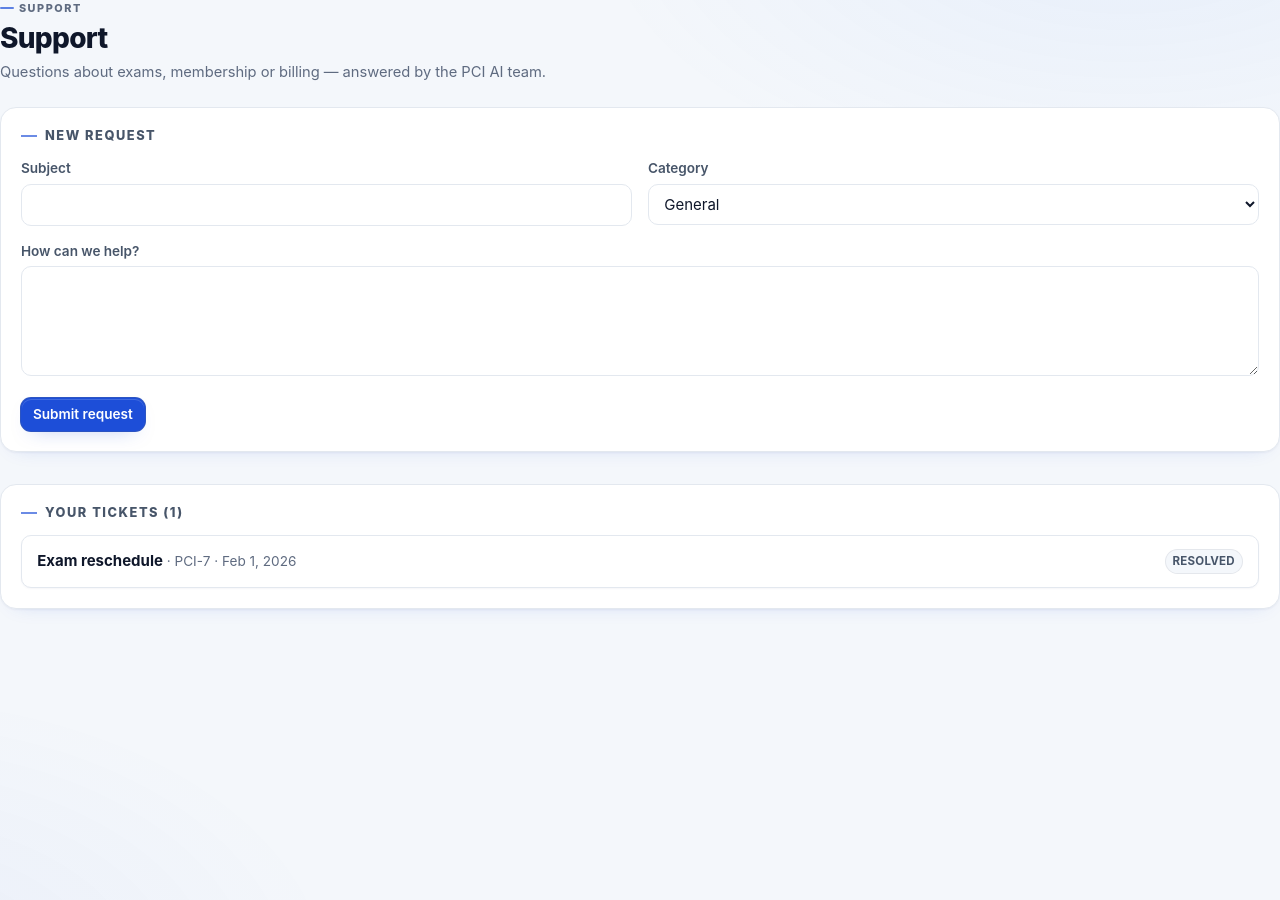
it: Support (ticket lifecycle) › offers the rating widget on a resolved unrated ticket and posts the chosen star
What coordinates should you click on to do the following:
click the button "Exam reschedule · PCI-7 · Feb 1, 2026 resolved"
I would click on:
 (100, 561)
Its box is [37,549,1243,574].
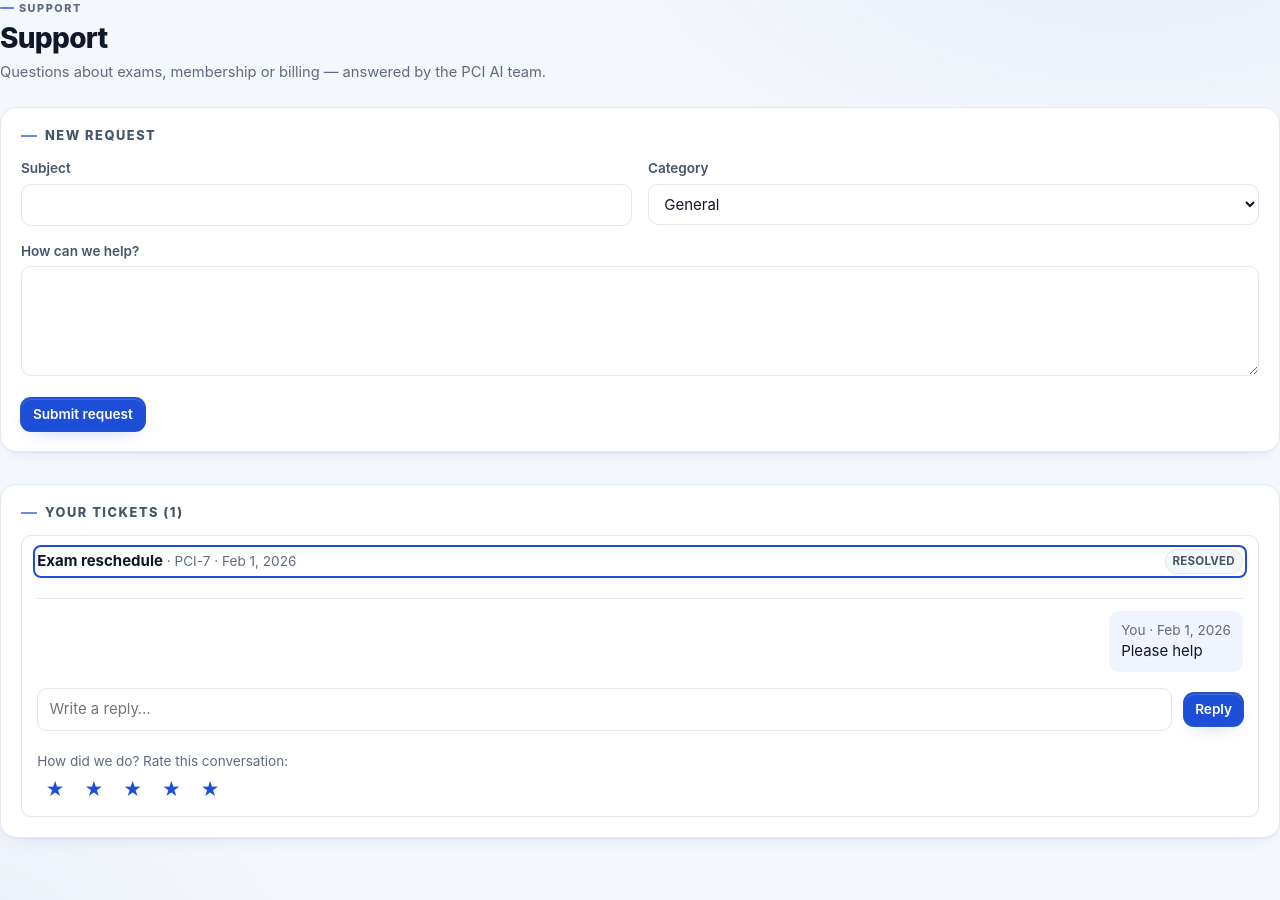
Result: the text "How did we do? Rate this conversation:" is shown at [37,753,288,769]
What coordinates should you click on to do the following:
click the button named "Rate 4 out of 5"
I would click on:
 (171, 790)
Its box is [154,775,189,804].
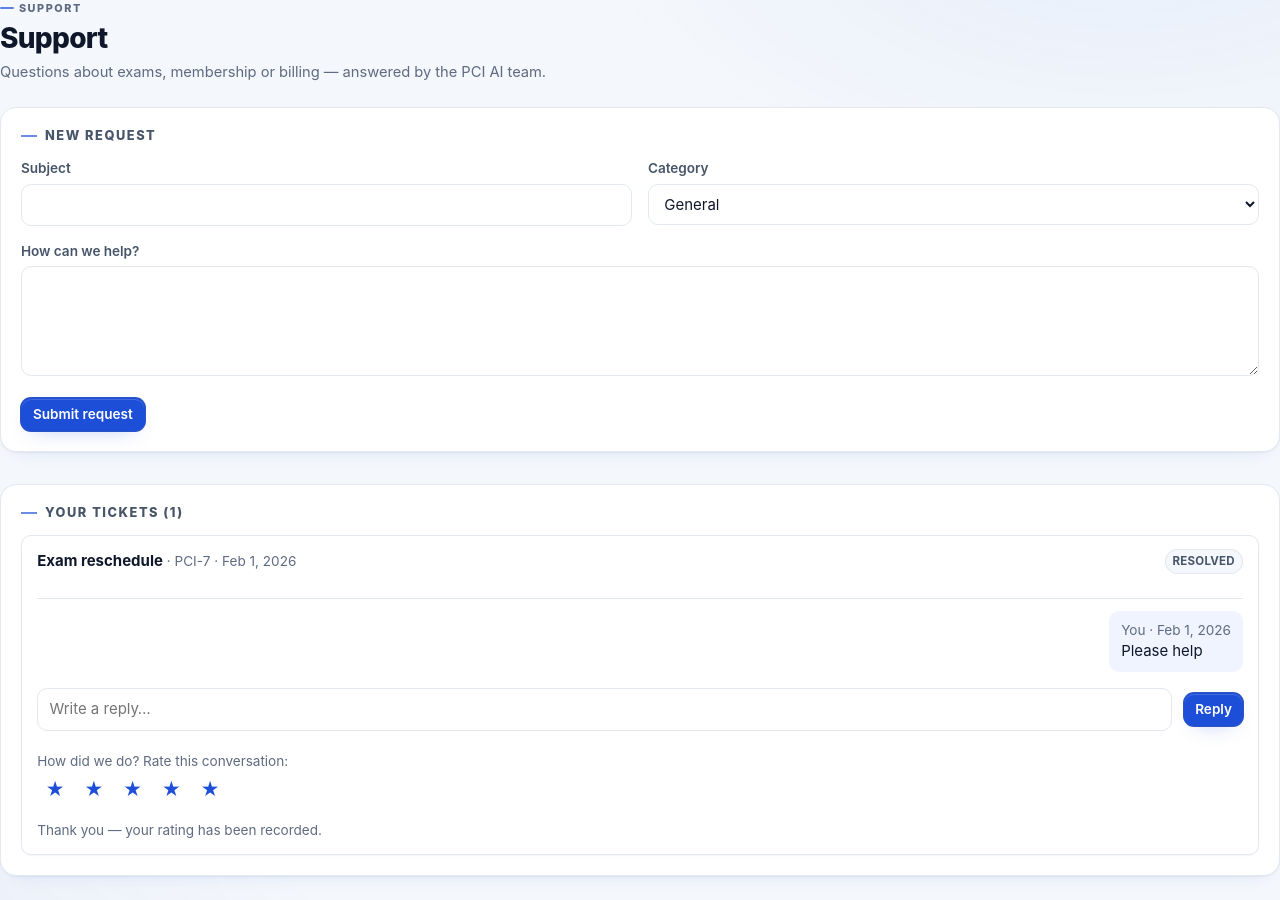
Result: the text "Thank you — your rating has been recorded." is shown at [37,822,322,838]
